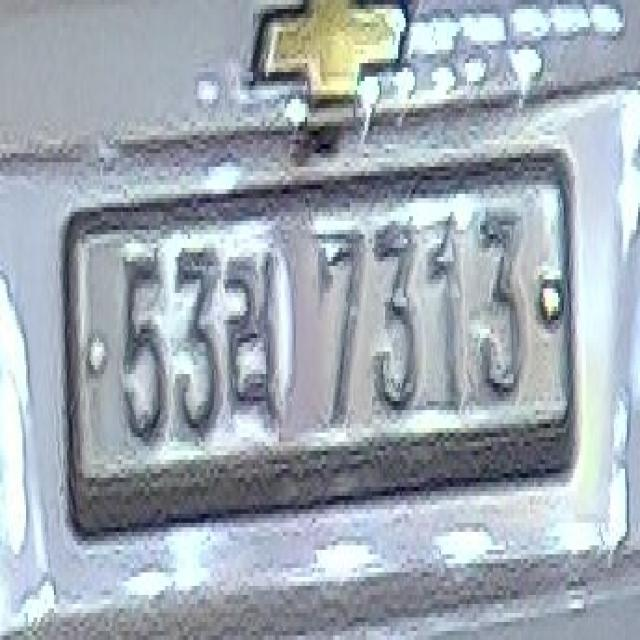1: (426, 225, 471, 415)
3: (164, 252, 227, 460), (471, 203, 534, 410), (370, 225, 420, 424)
5: (112, 252, 176, 451)
7: (313, 221, 370, 437)
leo: (223, 248, 281, 433)
license_plate: (54, 162, 584, 554)
